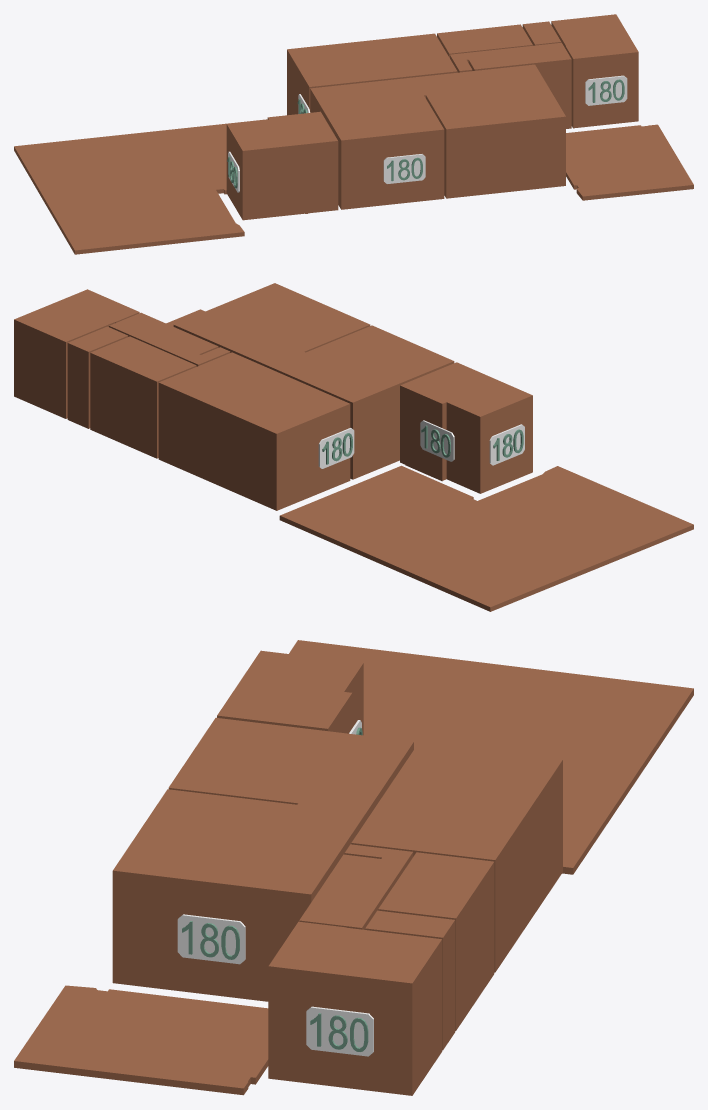
3 renders of one model, top to bottom at view 1: azimuth 30°, elevation 25°; view 2: azimuth 150°, elevation 25°; view 3: azimuth 270°, elevation 25°, orthographic. The views are drawn at different scales.
Parts seen in each view (by area): view 1: g_8, g_0, g_1, g_7, g_9, g_2, g_3, g_6, g_4, g_21, g_25, g_5; view 2: g_8, g_2, g_7, g_1, g_0, g_4, g_3, g_6, g_5, g_13, g_29, g_33; view 3: g_0, g_8, g_3, g_2, g_9, g_1, g_4, g_7, g_6, g_5, g_37, g_17.
Part boxes in pixels (box(x1,y1,x2,y2)): g_8: box(14, 119, 267, 254); g_0: box(415, 64, 565, 198); g_1: box(310, 77, 444, 209); g_7: box(226, 111, 338, 220); g_9: box(566, 124, 693, 200); g_2: box(287, 33, 457, 115); g_3: box(551, 14, 638, 128); g_6: box(450, 42, 571, 128); g_4: box(437, 24, 532, 57); g_21: box(383, 154, 425, 183); g_25: box(585, 75, 627, 105); g_5: box(522, 21, 561, 45); g_8: box(279, 465, 693, 611); g_2: box(158, 352, 350, 510); g_7: box(400, 362, 532, 493); g_1: box(269, 325, 454, 479); g_0: box(173, 283, 370, 367); g_4: box(90, 336, 196, 458); g_3: box(14, 289, 139, 418); g_6: box(109, 312, 230, 366); g_5: box(67, 326, 128, 428); g_13: box(489, 424, 524, 465); g_29: box(318, 428, 354, 468); g_33: box(420, 420, 454, 461); g_0: box(112, 789, 365, 1001); g_8: box(289, 640, 693, 874); g_3: box(268, 921, 442, 1095); g_2: box(351, 742, 562, 972); g_9: box(14, 985, 268, 1095); g_1: box(168, 717, 413, 820); g_4: box(378, 852, 494, 1030); g_7: box(217, 650, 363, 735); g_6: box(299, 844, 413, 929); g_5: box(365, 910, 455, 1050); g_37: box(177, 914, 245, 964); g_17: box(306, 1006, 373, 1056).
Size of the model in its own units: 21.63 by 2.65 by 13.61.
